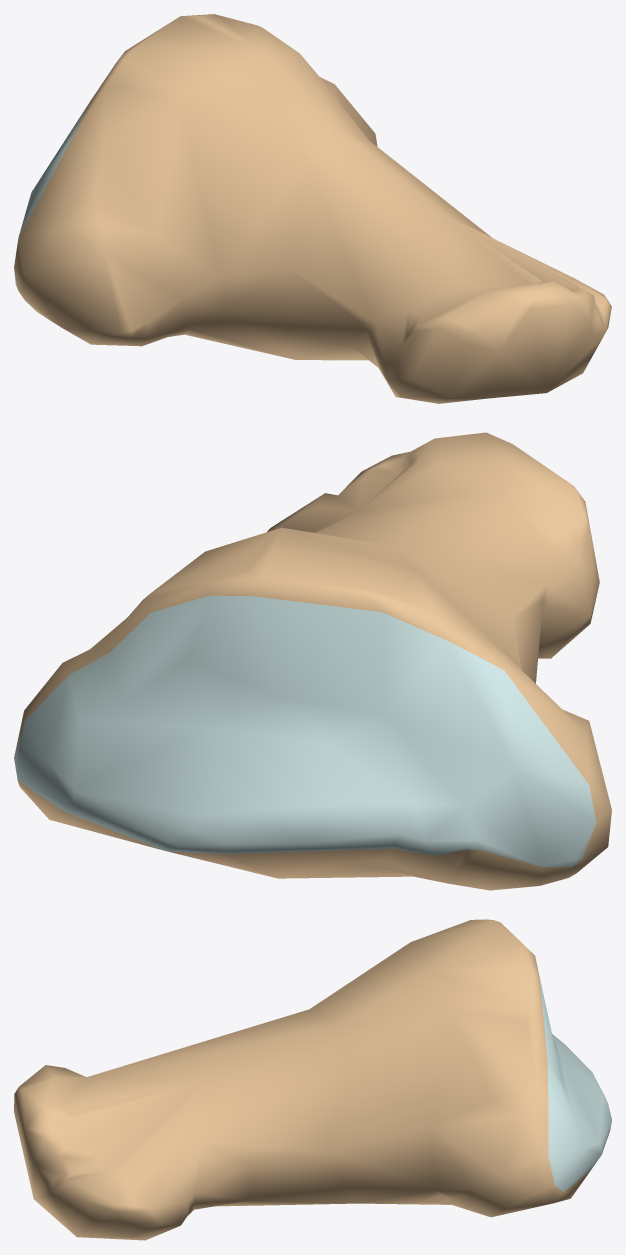
File: Distal_phalanx_first_finger_foot_left.glb
3 views of the same model, one above another, from view 1: azimuth 30°, elevation 25°; view 2: azimuth 150°, elevation 25°; view 3: azimuth 270°, elevation 25° (orthographic). The views are drawn at different scales.
Visible parts, largest first — view 1: Distal_phalanx_of_1st_finger_of_foot.l_Generated_Mesh_From_X; view 2: Distal_phalanx_of_1st_finger_of_foot.l_Generated_Mesh_From_X; view 3: Distal_phalanx_of_1st_finger_of_foot.l_Generated_Mesh_From_X.
Part boxes in pixels (x1,y1,x2,y2): Distal_phalanx_of_1st_finger_of_foot.l_Generated_Mesh_From_X: (14, 14, 611, 403); Distal_phalanx_of_1st_finger_of_foot.l_Generated_Mesh_From_X: (14, 432, 611, 890); Distal_phalanx_of_1st_finger_of_foot.l_Generated_Mesh_From_X: (14, 919, 611, 1240).
Bounding box in the file's own units: 0.0208 × 0.0115 × 0.0269.
